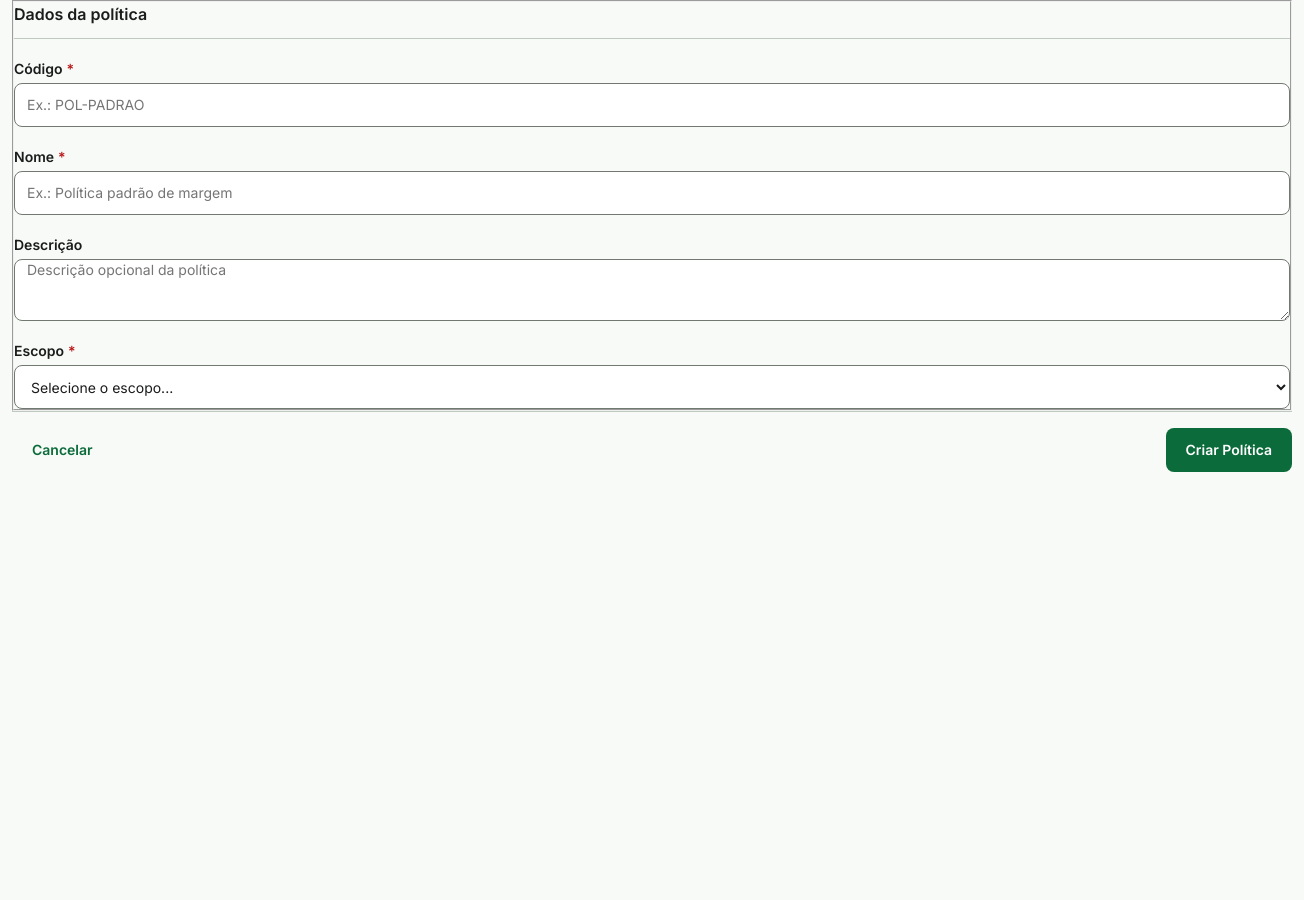
Test: Policy form validation (UI-FORM01..02) › UI-FORM01b: category scope without category selection shows error
Type "POL-CAT" into the field labelled "Código*" at x=652, y=105, box [14,83,1290,127]
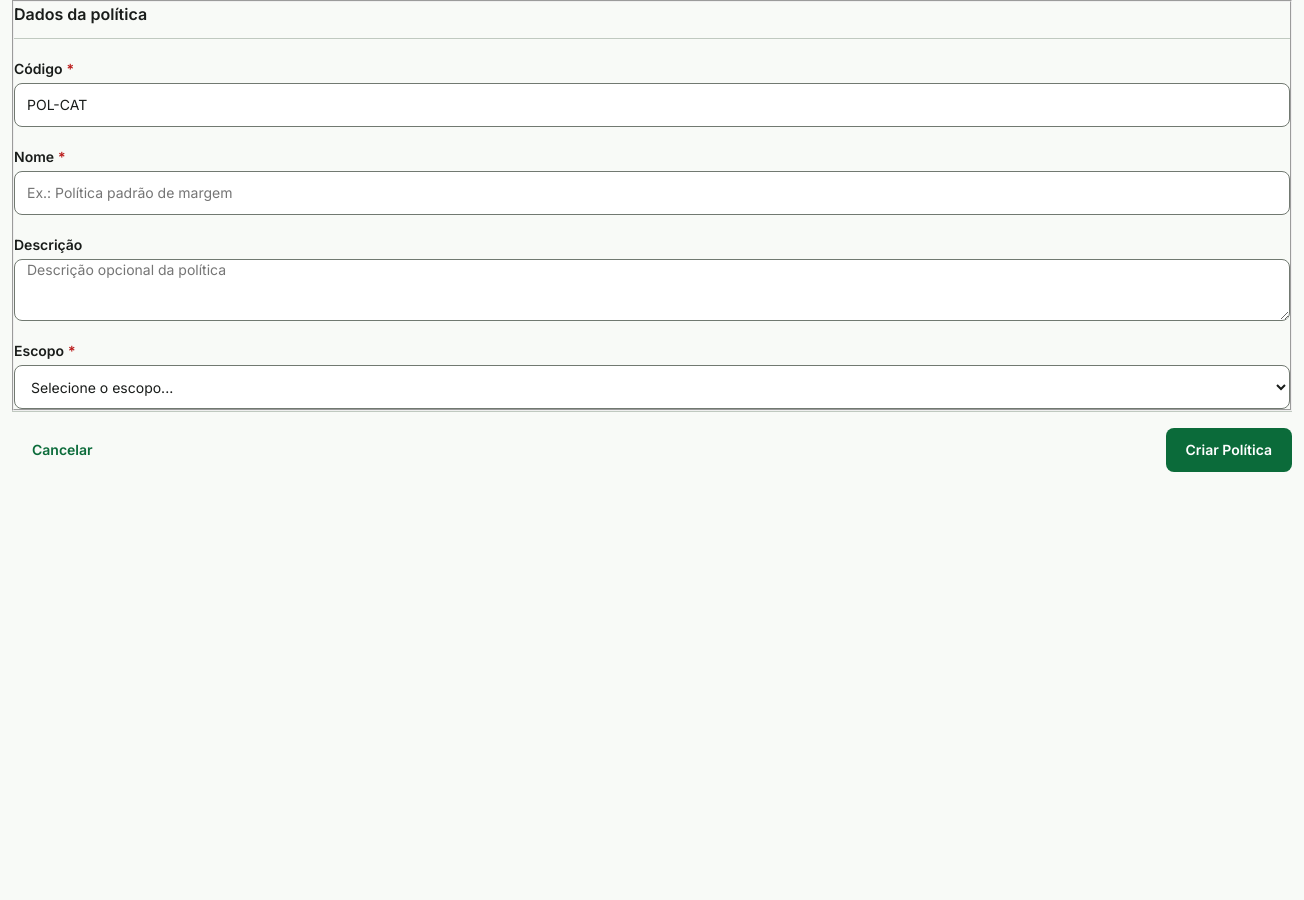
Type "Política por categoria" into the field labelled "Nome*" at x=652, y=193, box [14,171,1290,215]
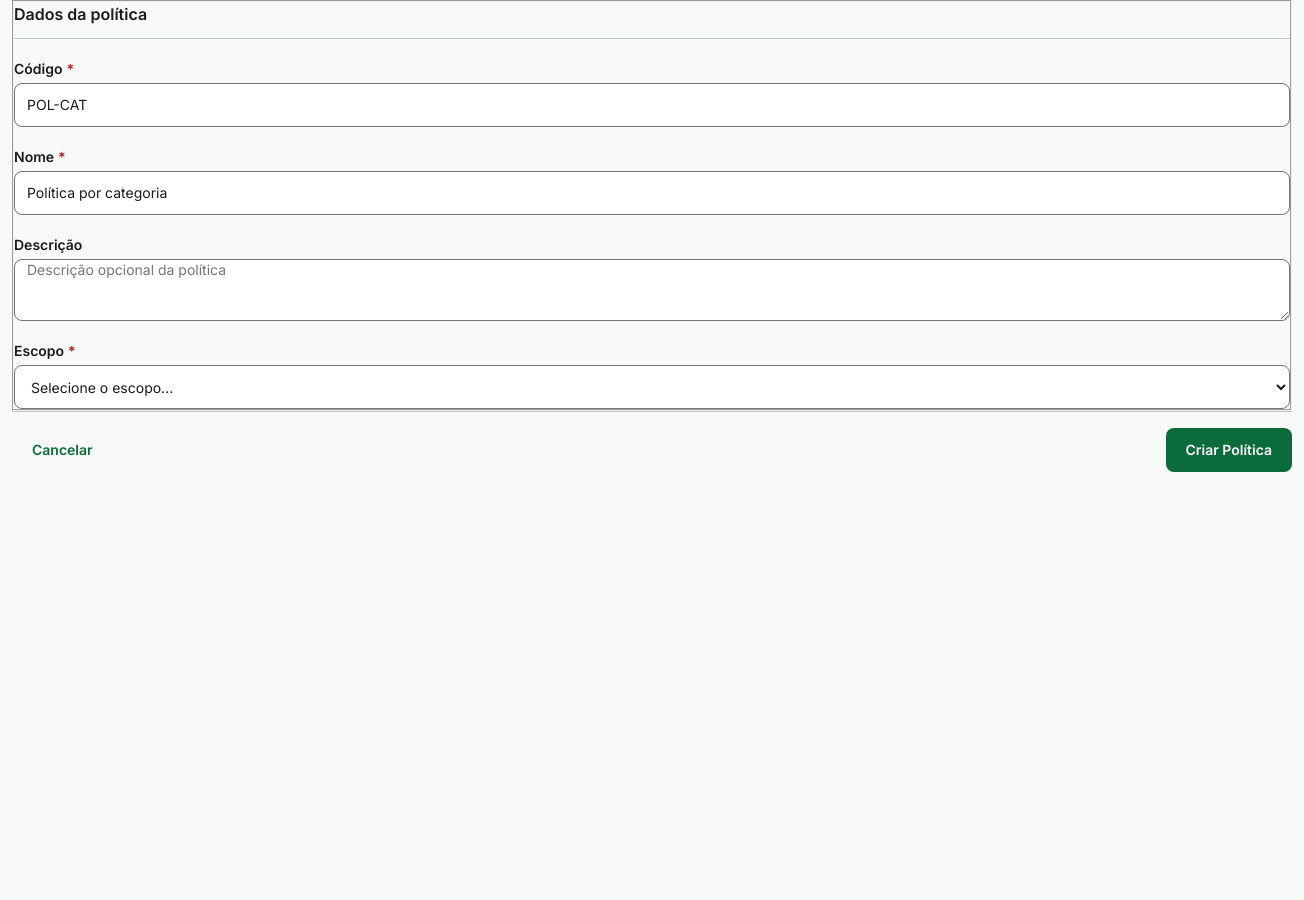
Select "Categoria" in the dropdown labelled "Escopo*" at x=652, y=387, box [14,365,1290,409]
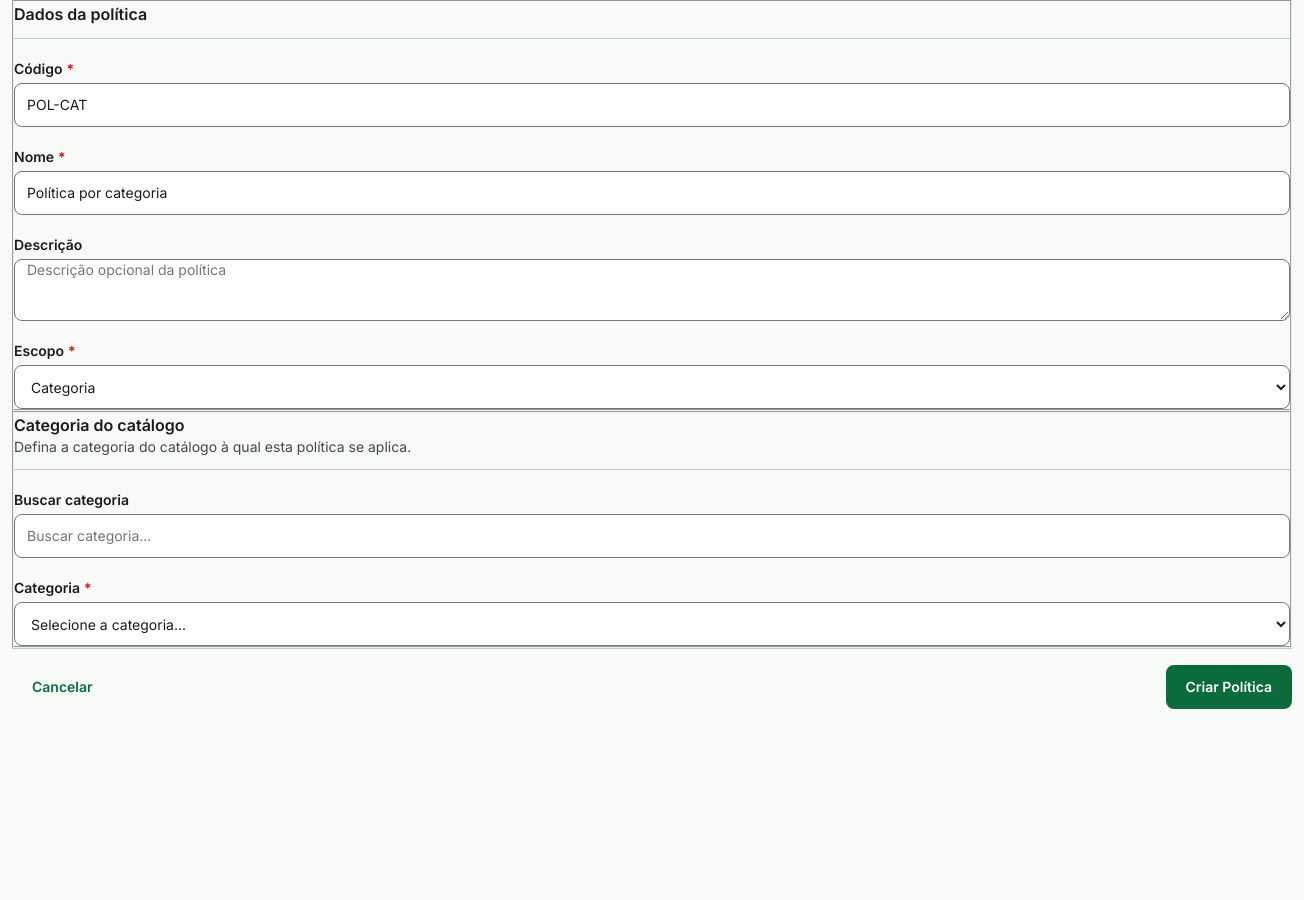
Click the button "Criar Política" at x=1229, y=687, box [1166,665,1292,709]
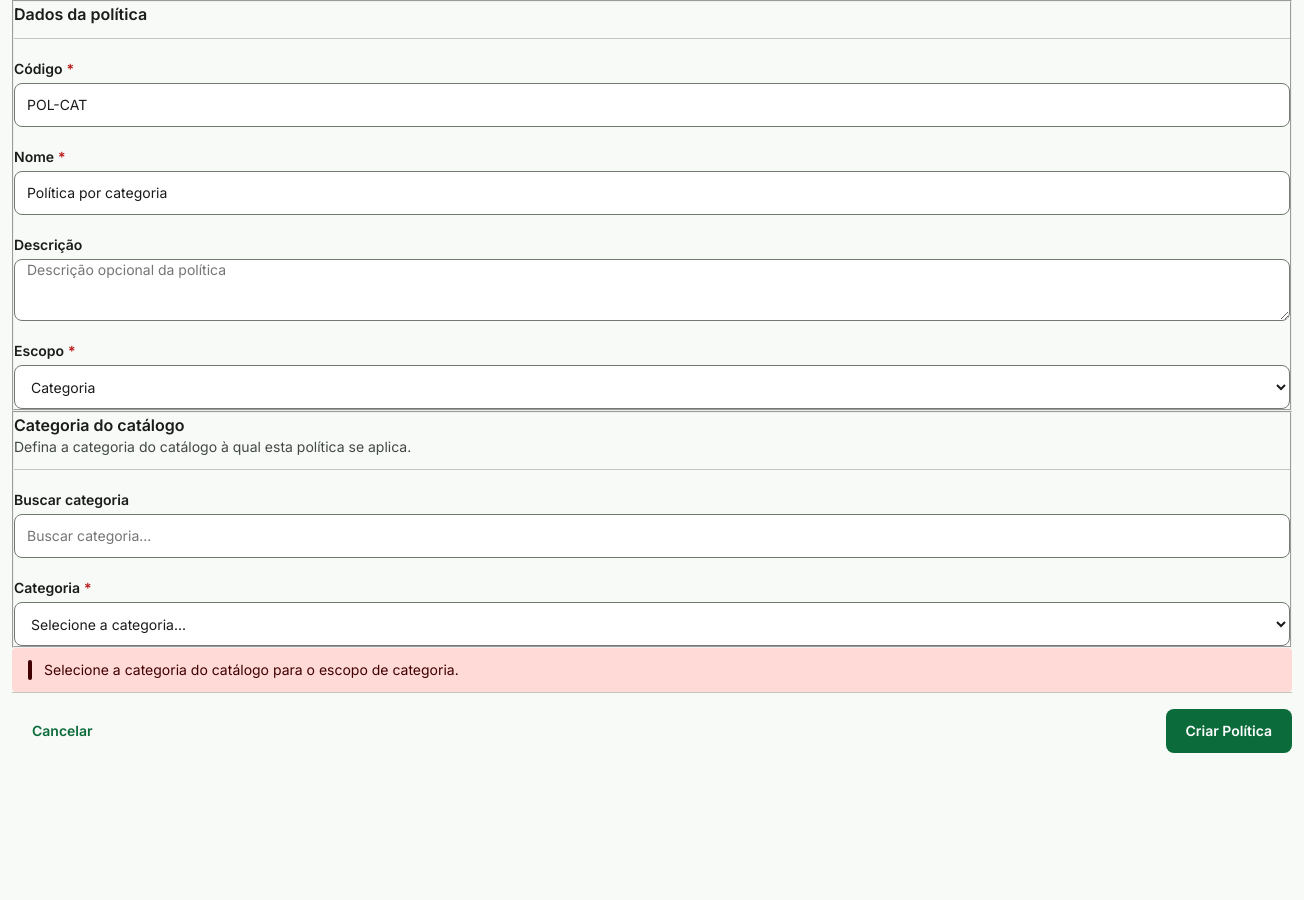
Result: the text "Selecione a categoria do catálogo para o escopo de categoria." is shown at [44,661,459,678]
